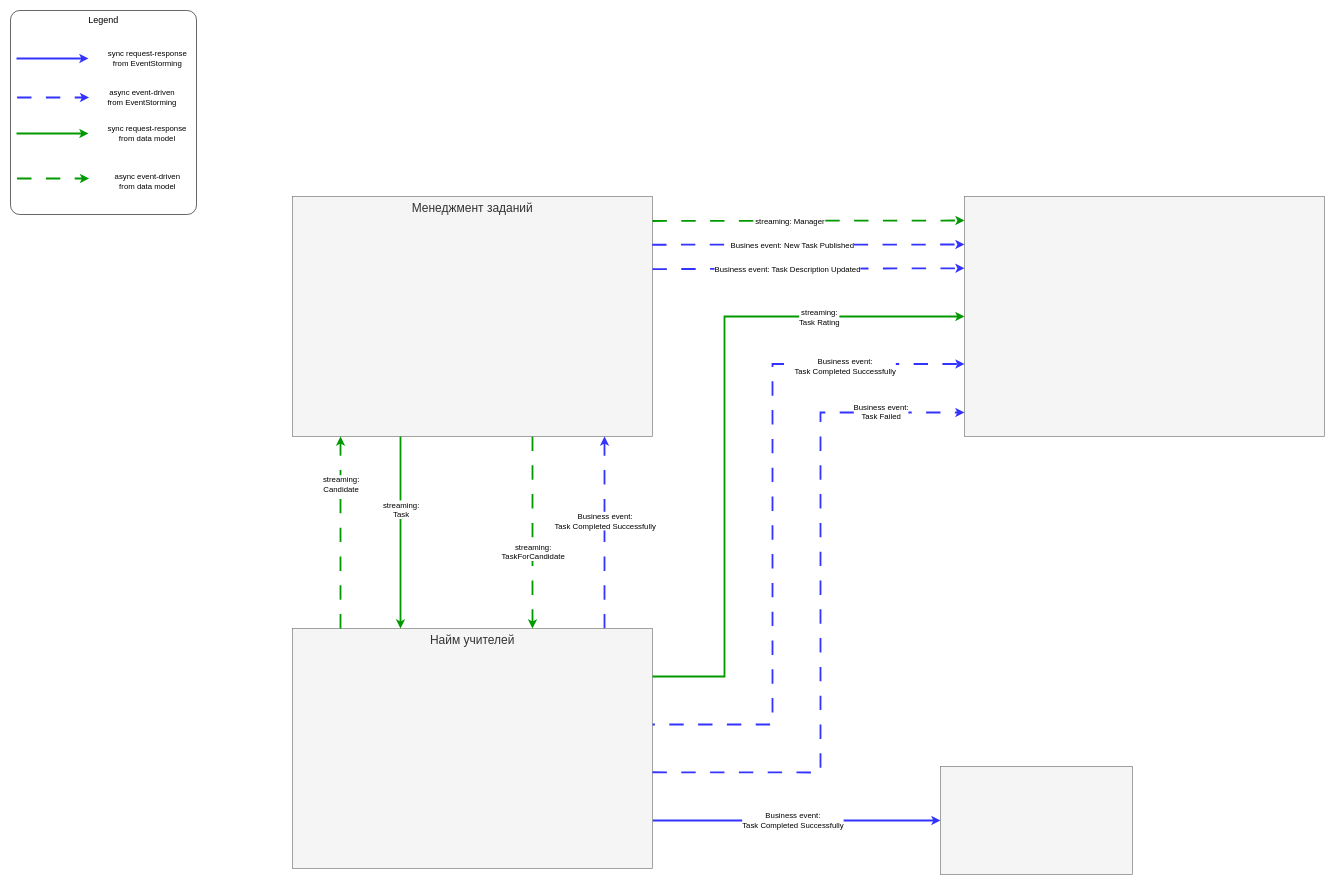
Some shapes in this 1335 by 885 pixel diagram are drawn without their labels. The box of each missing label's shape, as (x1, y1, x2, y2) in pixels:
Бонусы менеджеров: (964, 196, 1324, 436)
Система из уроков: (940, 766, 1132, 874)
